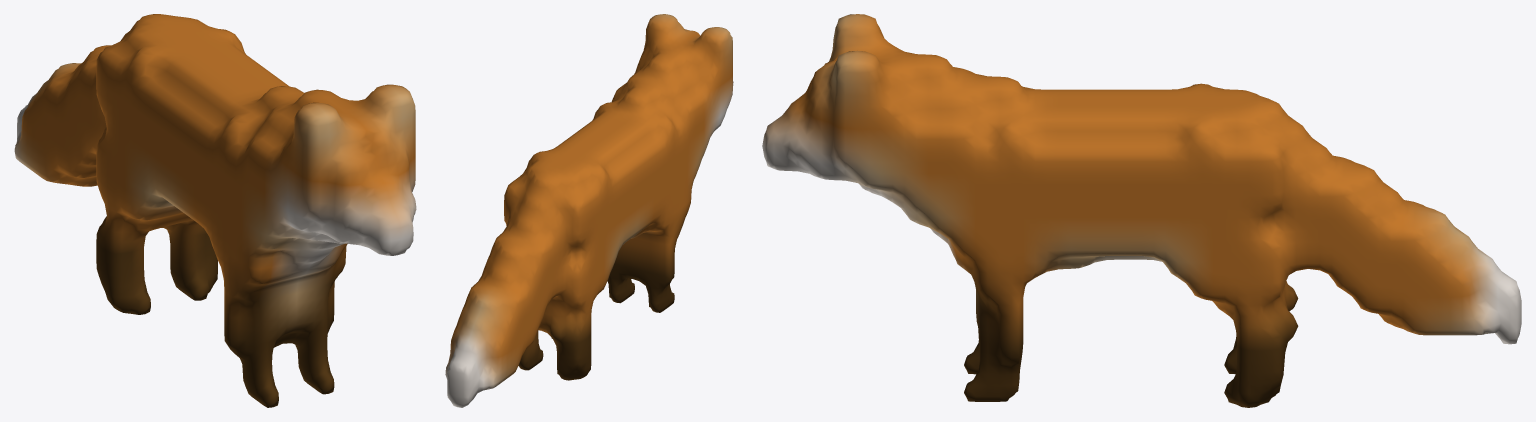
Rendered from Fox_128B_vox.glb.
The picture shows the model from 3 angles, left to right: view 1: azimuth 30°, elevation 25°; view 2: azimuth 150°, elevation 25°; view 3: azimuth 270°, elevation 25°; orthographic projection. The views are drawn at different scales.
Parts seen in each view (by area): view 1: shapehash-vox; view 2: shapehash-vox; view 3: shapehash-vox.
Boxes of the visible parts, x1,y1,x2,y2 form: shapehash-vox: [14, 14, 416, 407]; shapehash-vox: [445, 14, 733, 407]; shapehash-vox: [762, 14, 1521, 407].
Bounding box in the file's own units: 0.3438 × 1.03 × 2.
